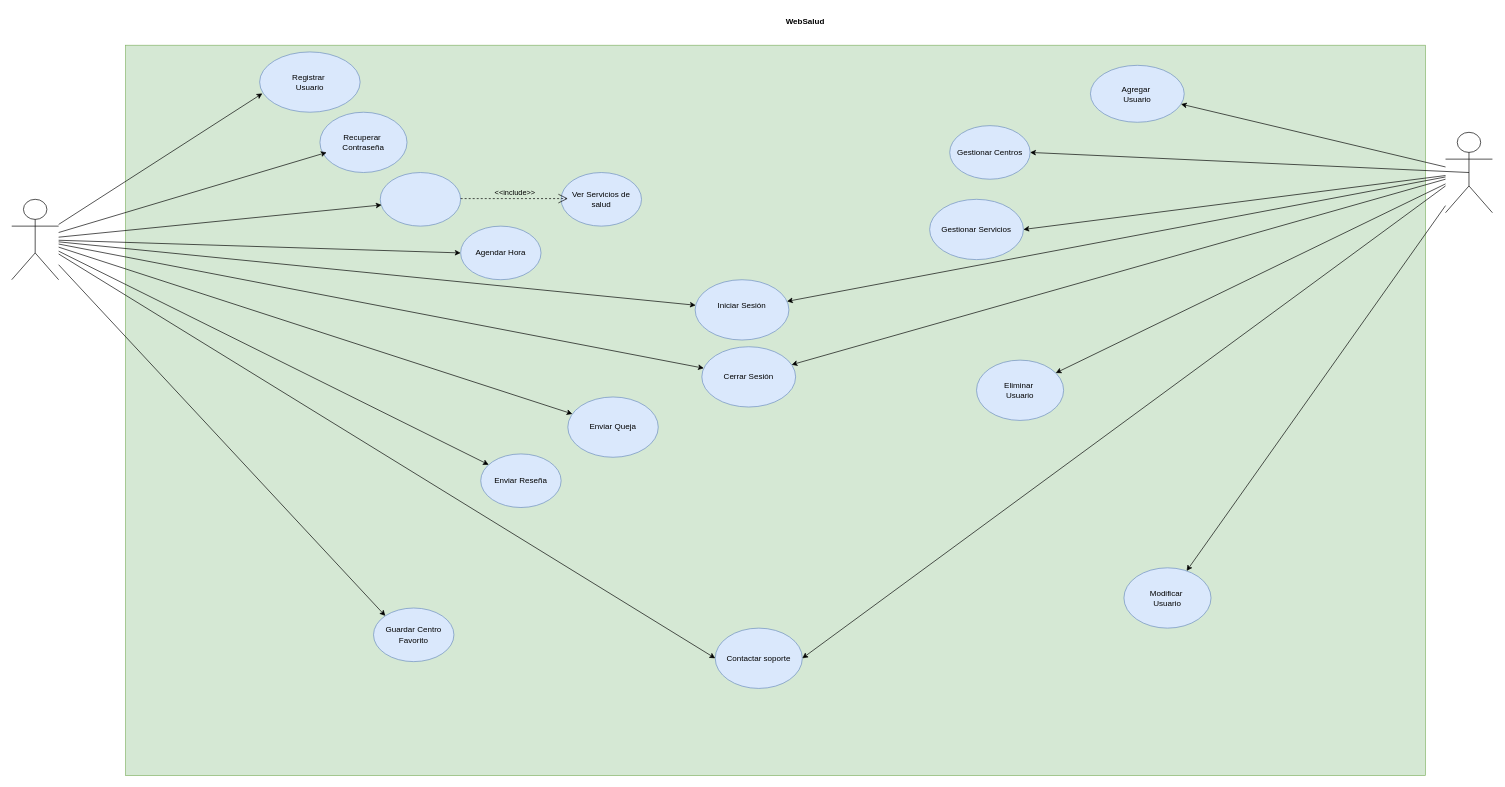
This 1505x787 diagram has some shape labels left out. Each missing label, with the centre of its shape:
Administrador: pixel 1468 172
Usuario: pixel 35 239
Ver Centros de Salud: pixel 420 199
